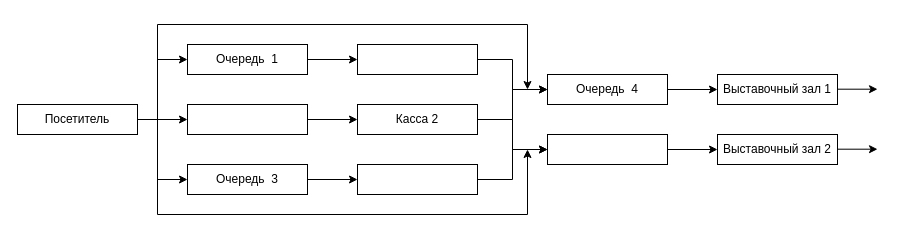
Some shapes in this 903 by 240 pixel diagram are drawn without their labels. The centre of each missing label's shape, as x and y in pixels:
"Касса 1" belongs at point 417,59.
"Касса 3" belongs at point 417,179.
"Очередь 2" belongs at point 247,119.
"Очередь 5" belongs at point 607,149.
